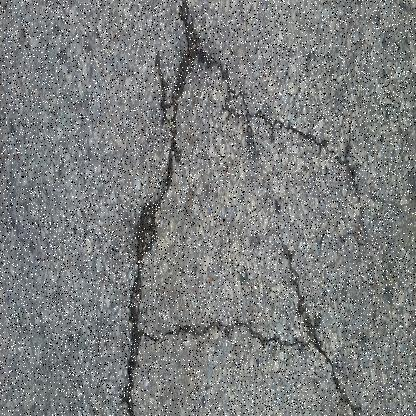Cracks: (177, 0, 365, 416), (121, 0, 195, 416), (130, 310, 323, 357)
